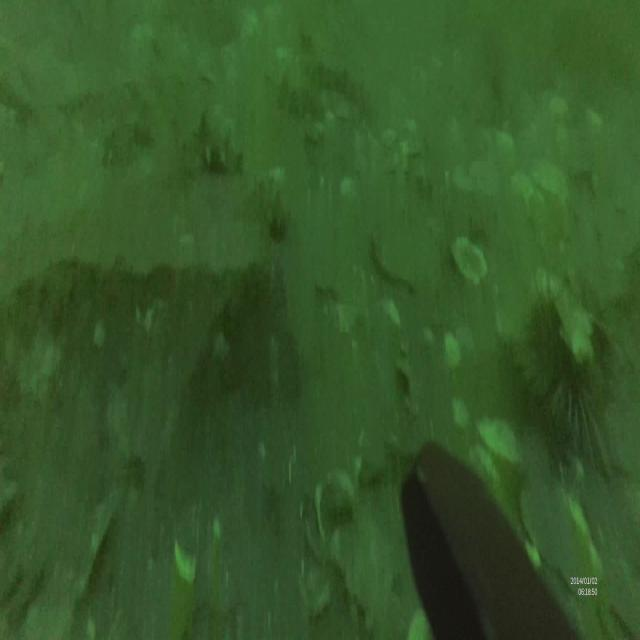echinus: (517, 282, 619, 480)
holothurian: (192, 112, 245, 172)
